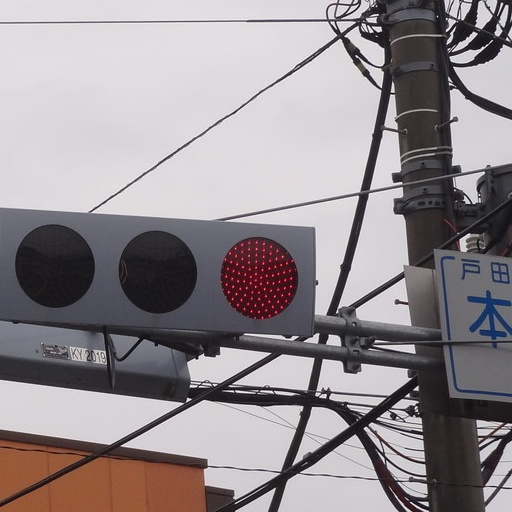Traffic_Signal_Red: (2, 208, 306, 327)
